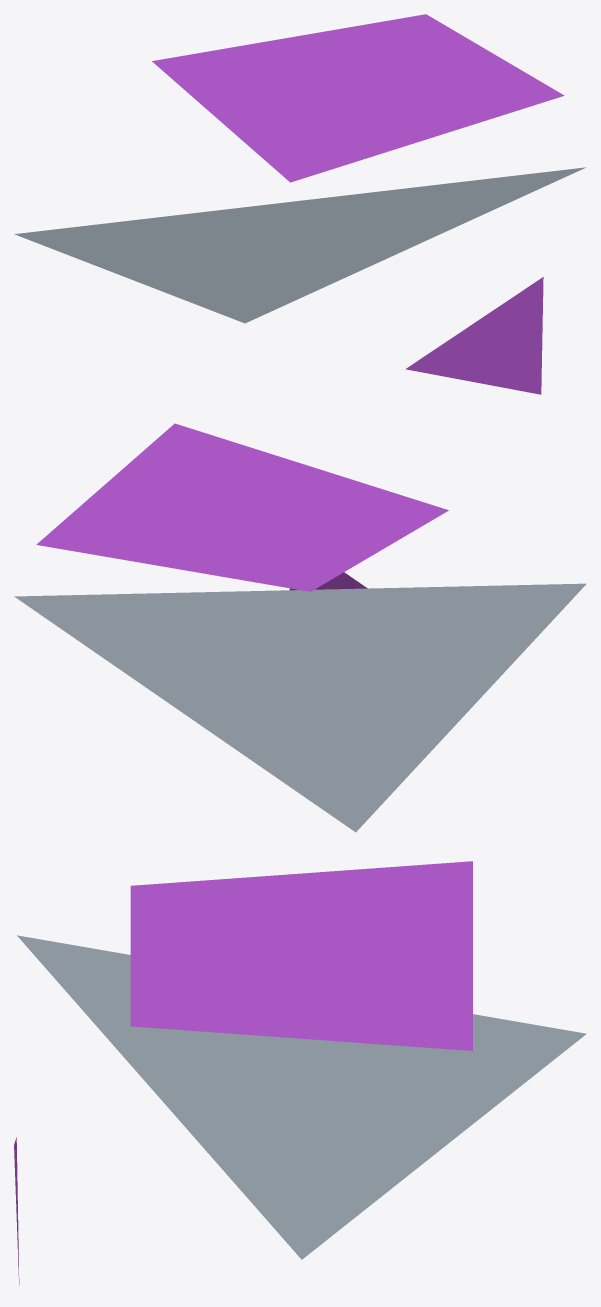
Rendered from CH_MCV_MobileArk_LOD2.glb.
The picture shows the model from 3 angles, top to bottom: view 1: azimuth 30°, elevation 25°; view 2: azimuth 150°, elevation 25°; view 3: azimuth 270°, elevation 25°; orthographic projection. The views are drawn at different scales.
Parts seen in each view (by area): view 1: EntranceGate; view 2: EntranceGate; view 3: EntranceGate.
Part boxes in pixels (x1,y1,x2,y2): EntranceGate: (14,14,585,394); EntranceGate: (14,423,586,832); EntranceGate: (14,861,586,1285).
Bounding box in the file's own units: 800 × 417 × 703.
